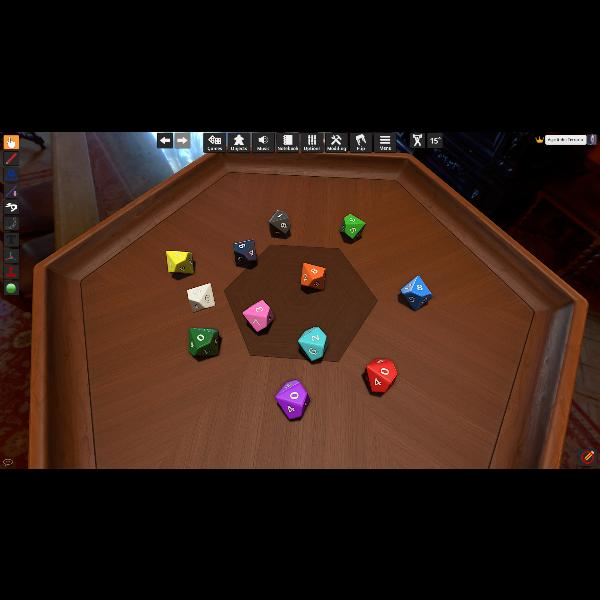d10: (278, 378, 310, 418), (400, 274, 430, 310), (298, 327, 328, 361), (365, 359, 395, 393), (189, 326, 221, 357), (243, 300, 273, 331), (187, 282, 215, 312), (300, 263, 326, 291), (340, 213, 364, 241), (234, 238, 258, 266), (166, 250, 194, 274), (268, 208, 290, 236)
